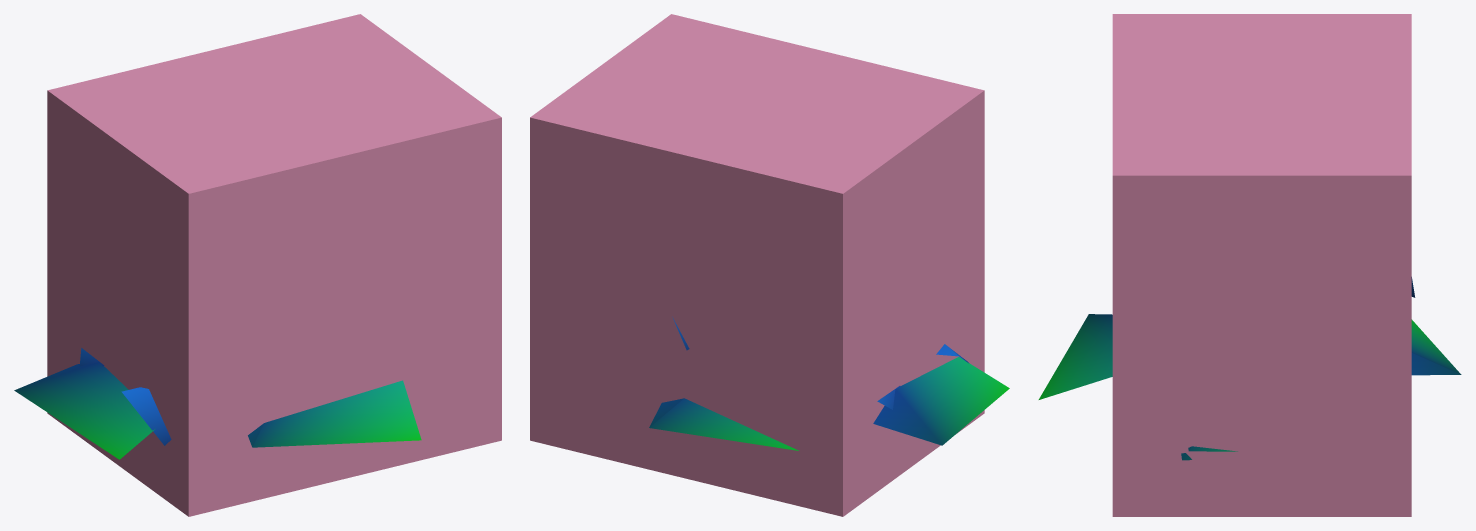
File: vine_bush_large.dae
3 renders of one model, left to right at view 1: azimuth 30°, elevation 25°; view 2: azimuth 150°, elevation 25°; view 3: azimuth 270°, elevation 25°, orthographic. The views are drawn at different scales.
Visible parts, largest first — view 1: Untitled, tree_oak_bush_a90, tree_oak_bush_a250; view 2: Untitled, tree_oak_bush_a90, tree_oak_bush_a250; view 3: Untitled, tree_oak_bush_a90, tree_oak_bush_a250.
Part boxes in pixels (bbox=[...]): Untitled: bbox=[47, 14, 501, 516]; tree_oak_bush_a90: bbox=[14, 362, 421, 459]; tree_oak_bush_a250: bbox=[79, 348, 263, 446]; Untitled: bbox=[530, 14, 984, 516]; tree_oak_bush_a90: bbox=[649, 317, 1009, 450]; tree_oak_bush_a250: bbox=[649, 344, 968, 427]; Untitled: bbox=[1112, 14, 1411, 516]; tree_oak_bush_a90: bbox=[1038, 277, 1461, 460]; tree_oak_bush_a250: bbox=[1188, 353, 1460, 450].
Size of the model in its own units: 1.72 by 1.55 by 1.38.
